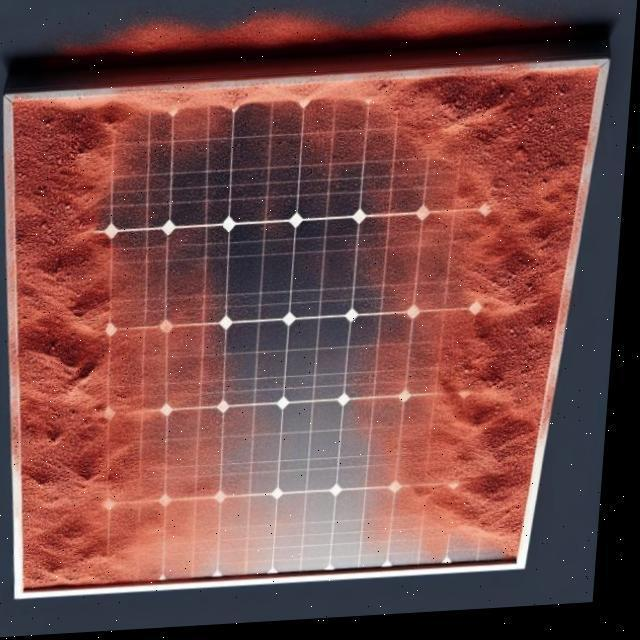Anomaly Solar Panel: (0, 74, 605, 595)
Surface Contaminant: (0, 73, 605, 593)
